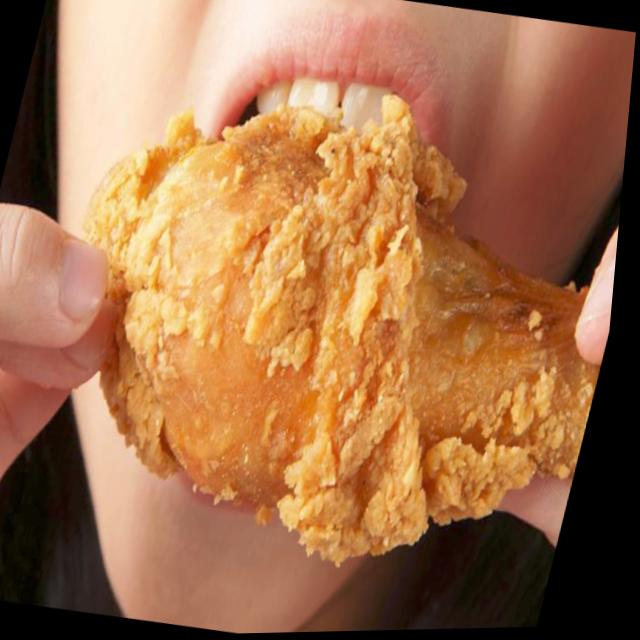fried_chicken: (56, 74, 632, 567)
